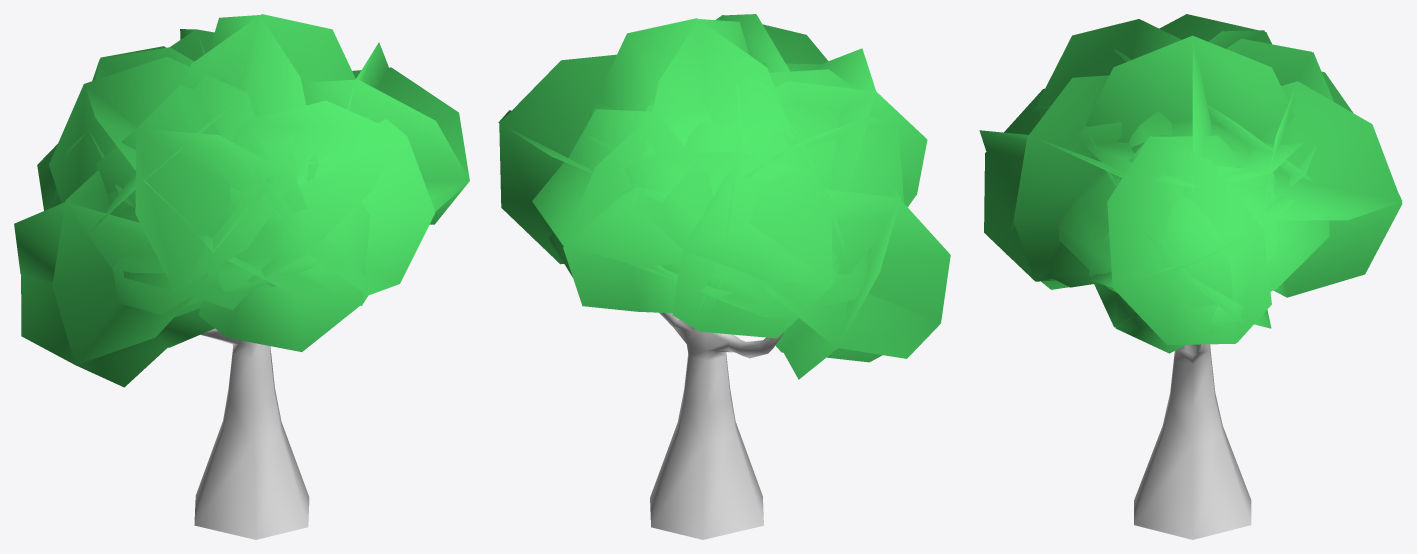
File: Bush_B.fbx
The picture shows the model from 3 angles, left to right: view 1: azimuth 30°, elevation 25°; view 2: azimuth 150°, elevation 25°; view 3: azimuth 270°, elevation 25°; orthographic projection. The views are drawn at different scales.
Visible parts, largest first — view 1: Bush_B_LOD0; view 2: Bush_B_LOD0; view 3: Bush_B_LOD0.
Part boxes in pixels (x1,y1,x2,y2): Bush_B_LOD0: (14,14,469,539); Bush_B_LOD0: (498,14,950,539); Bush_B_LOD0: (979,14,1402,539).
Size of what is drawn, in the model's own units: 1.57 by 1.74 by 1.39.
